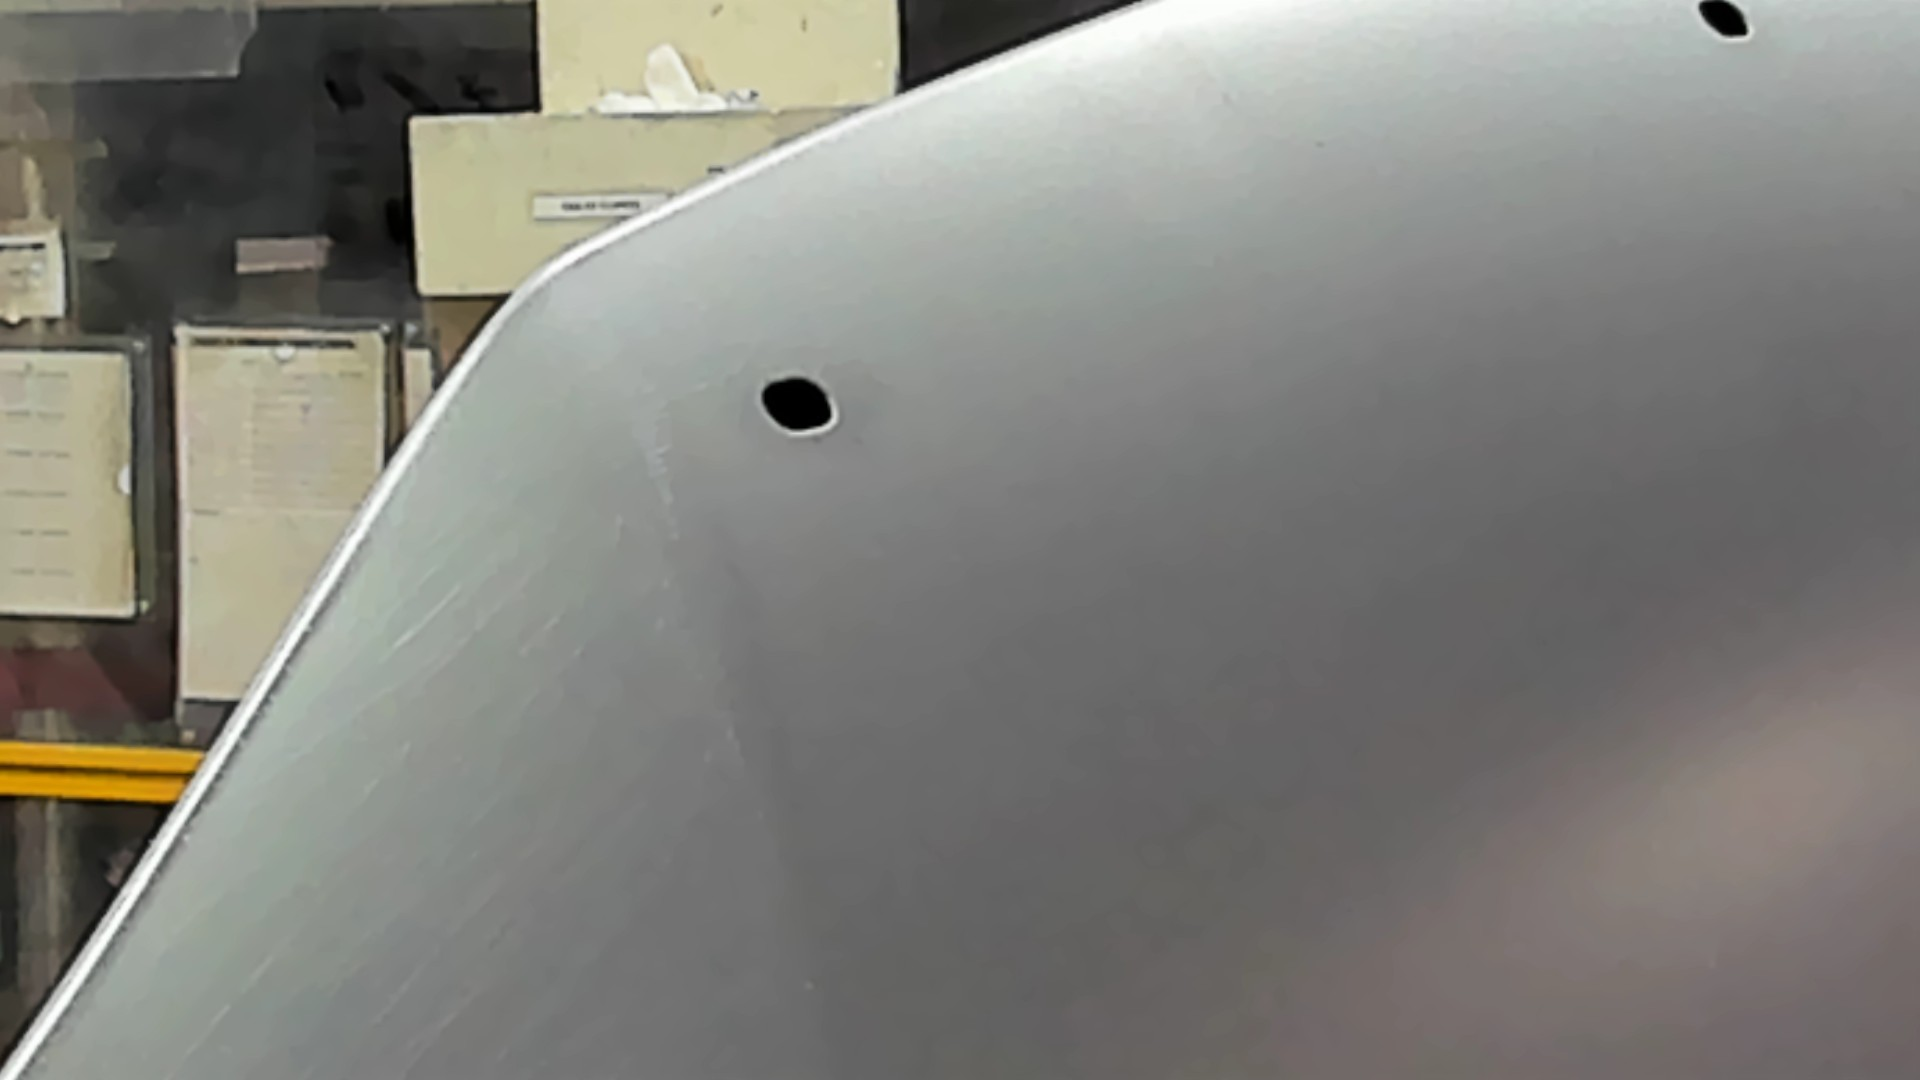amorfo: (752, 367, 845, 444), (1692, 1, 1760, 45)
capo: (928, 135, 1920, 1080)
